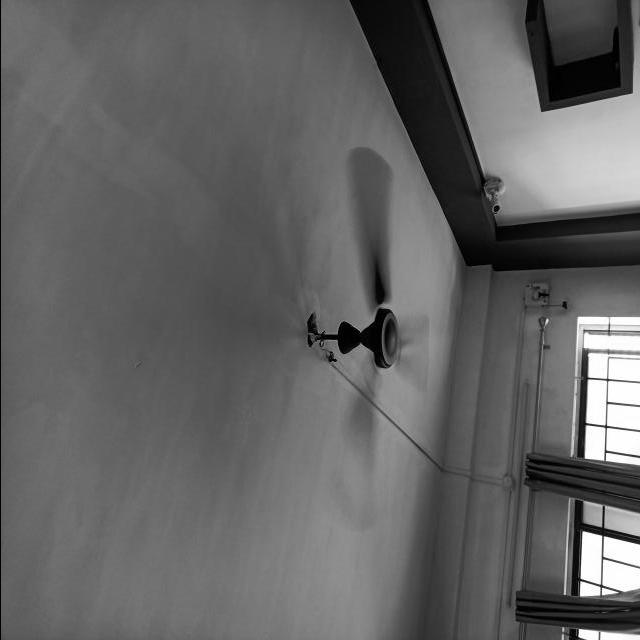fan: (278, 134, 439, 534)
